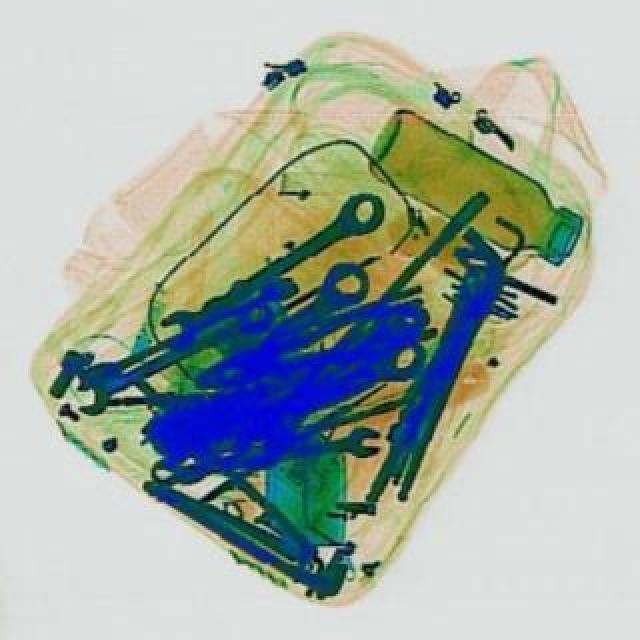scissors: (146, 182, 392, 356), (62, 292, 278, 418), (146, 422, 384, 486)
wrench: (182, 282, 438, 406)
